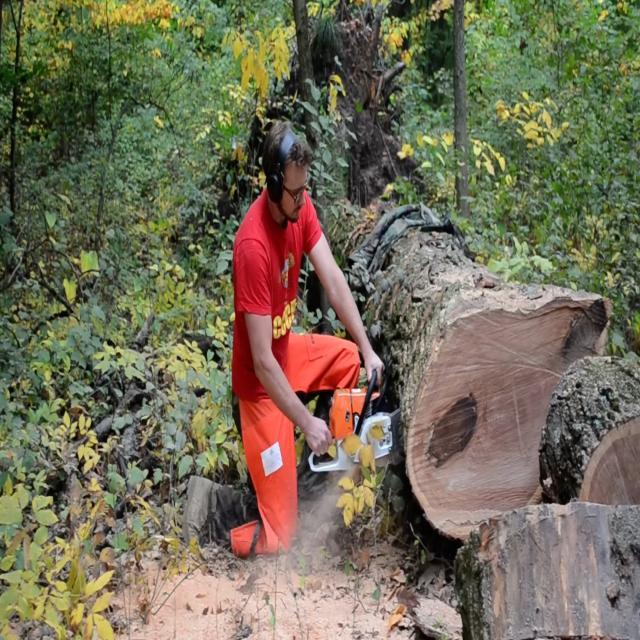Chainsaw: (282, 338, 426, 492)
